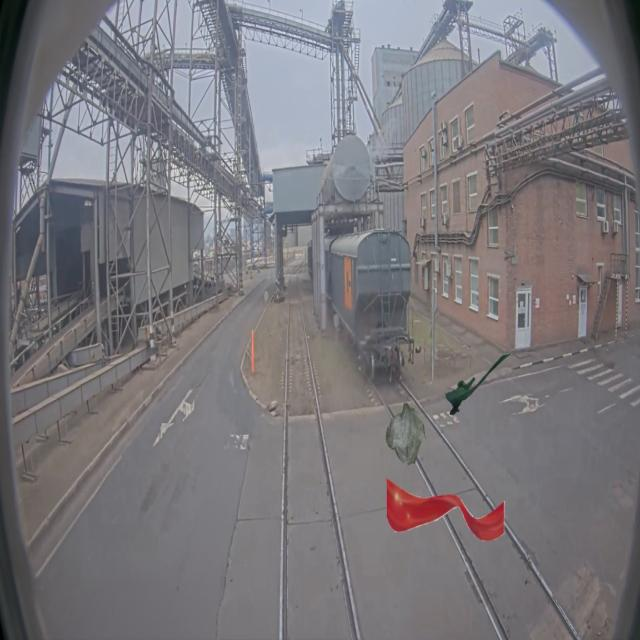floating object: (384, 478, 507, 542), (446, 351, 512, 415)
plastic bag: (386, 401, 426, 465)
